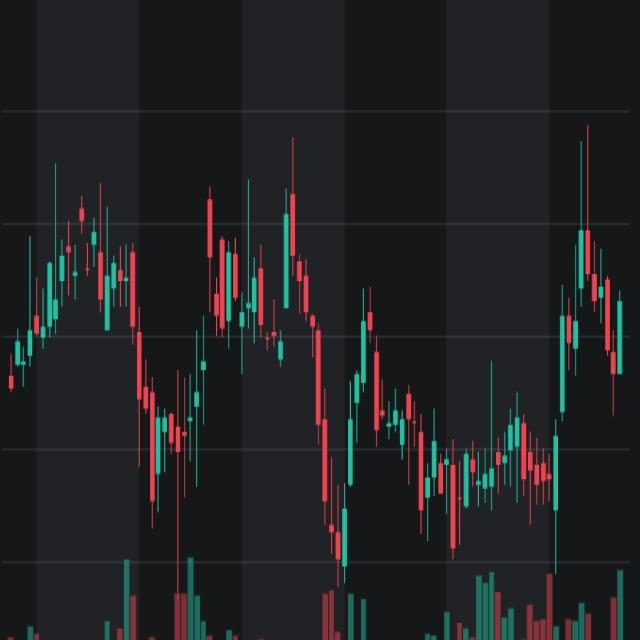Resistance-breakout: (491, 212, 591, 530)
